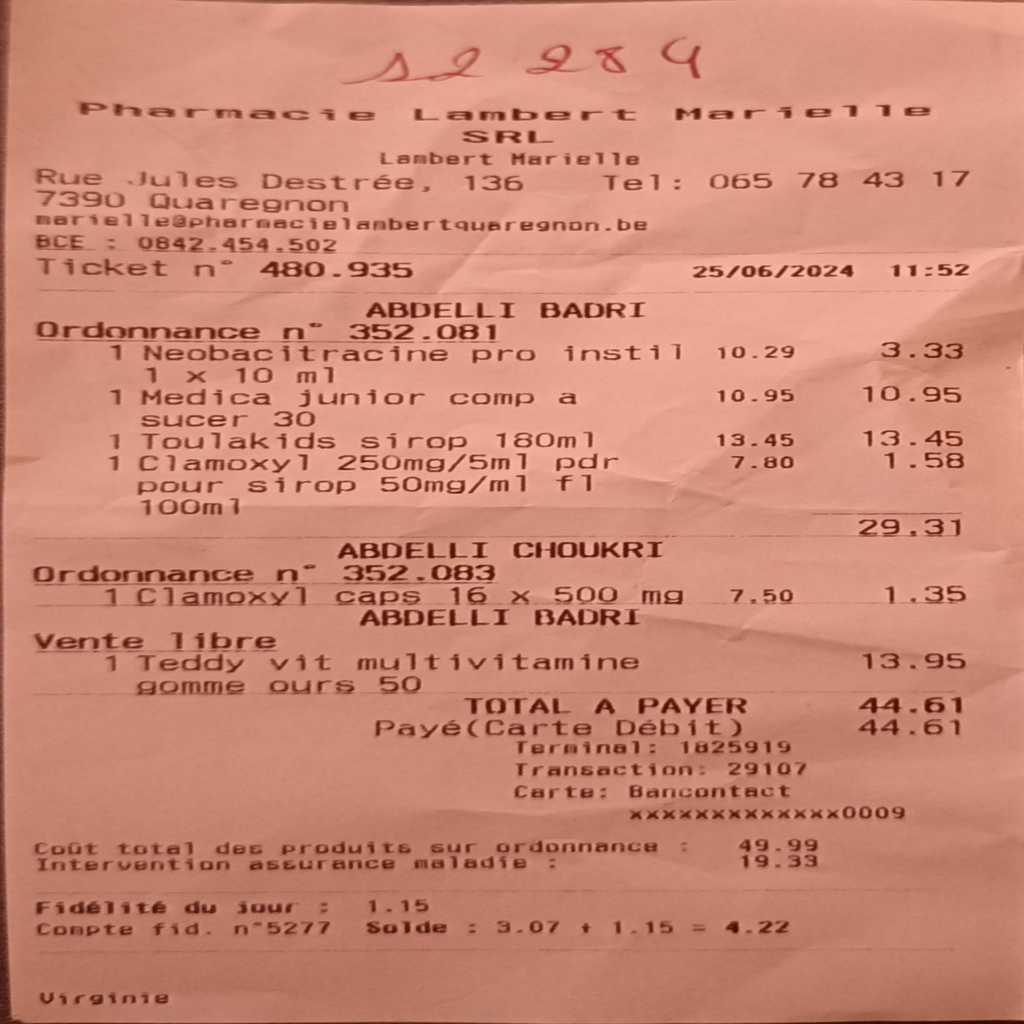recipt: (11, 4, 1022, 1016)
